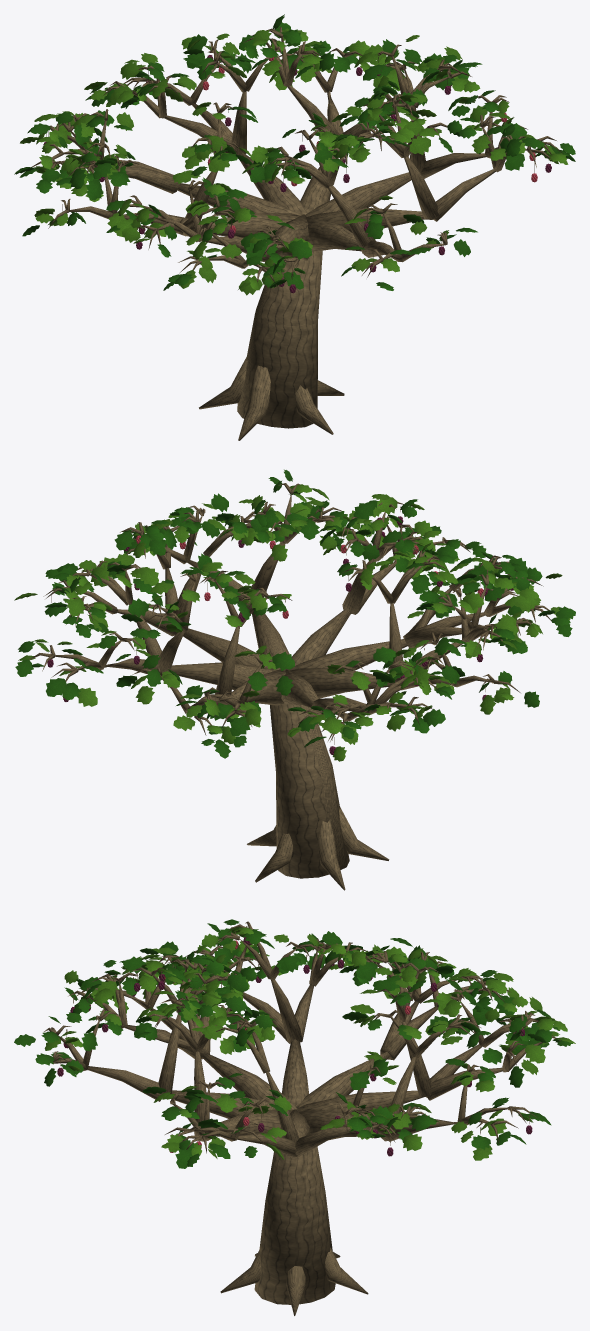
Rendered from 02_mulberry_v4_weeping.glb.
The picture shows the model from 3 angles, top to bottom: view 1: azimuth 30°, elevation 25°; view 2: azimuth 150°, elevation 25°; view 3: azimuth 270°, elevation 25°; orthographic projection. The views are drawn at different scales.
Parts seen in each view (by area): view 1: Mulberry variant | distinct trunk and branching architecture, Mulberry variant | serrated broad leaves.002, Mulberry variant | aggregate fruits and ripening stages.002; view 2: Mulberry variant | serrated broad leaves.002, Mulberry variant | distinct trunk and branching architecture, Mulberry variant | aggregate fruits and ripening stages.002; view 3: Mulberry variant | distinct trunk and branching architecture, Mulberry variant | serrated broad leaves.002, Mulberry variant | aggregate fruits and ripening stages.002.
Part boxes in pixels (x1,y1,x2,y2): Mulberry variant | distinct trunk and branching architecture: [31, 27, 563, 440]; Mulberry variant | serrated broad leaves.002: [14, 14, 575, 295]; Mulberry variant | aggregate fruits and ripening stages.002: [43, 55, 551, 293]; Mulberry variant | serrated broad leaves.002: [14, 469, 575, 761]; Mulberry variant | distinct trunk and branching architecture: [29, 483, 551, 890]; Mulberry variant | aggregate fruits and ripening stages.002: [47, 516, 513, 754]; Mulberry variant | distinct trunk and branching architecture: [44, 921, 560, 1315]; Mulberry variant | serrated broad leaves.002: [14, 919, 575, 1168]; Mulberry variant | aggregate fruits and ripening stages.002: [57, 937, 532, 1156].
Bounding box in the file's own units: 7.61 × 4.96 × 7.62.
5 materials, 3 textured.
